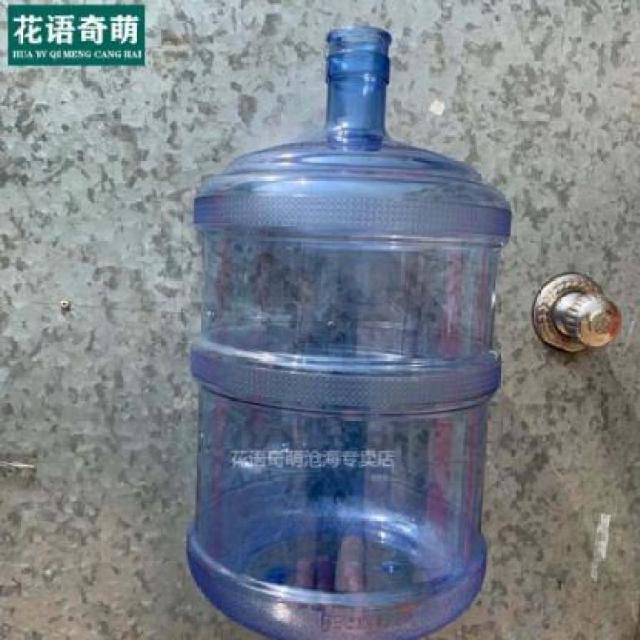coolerbottle: (183, 18, 519, 640)
